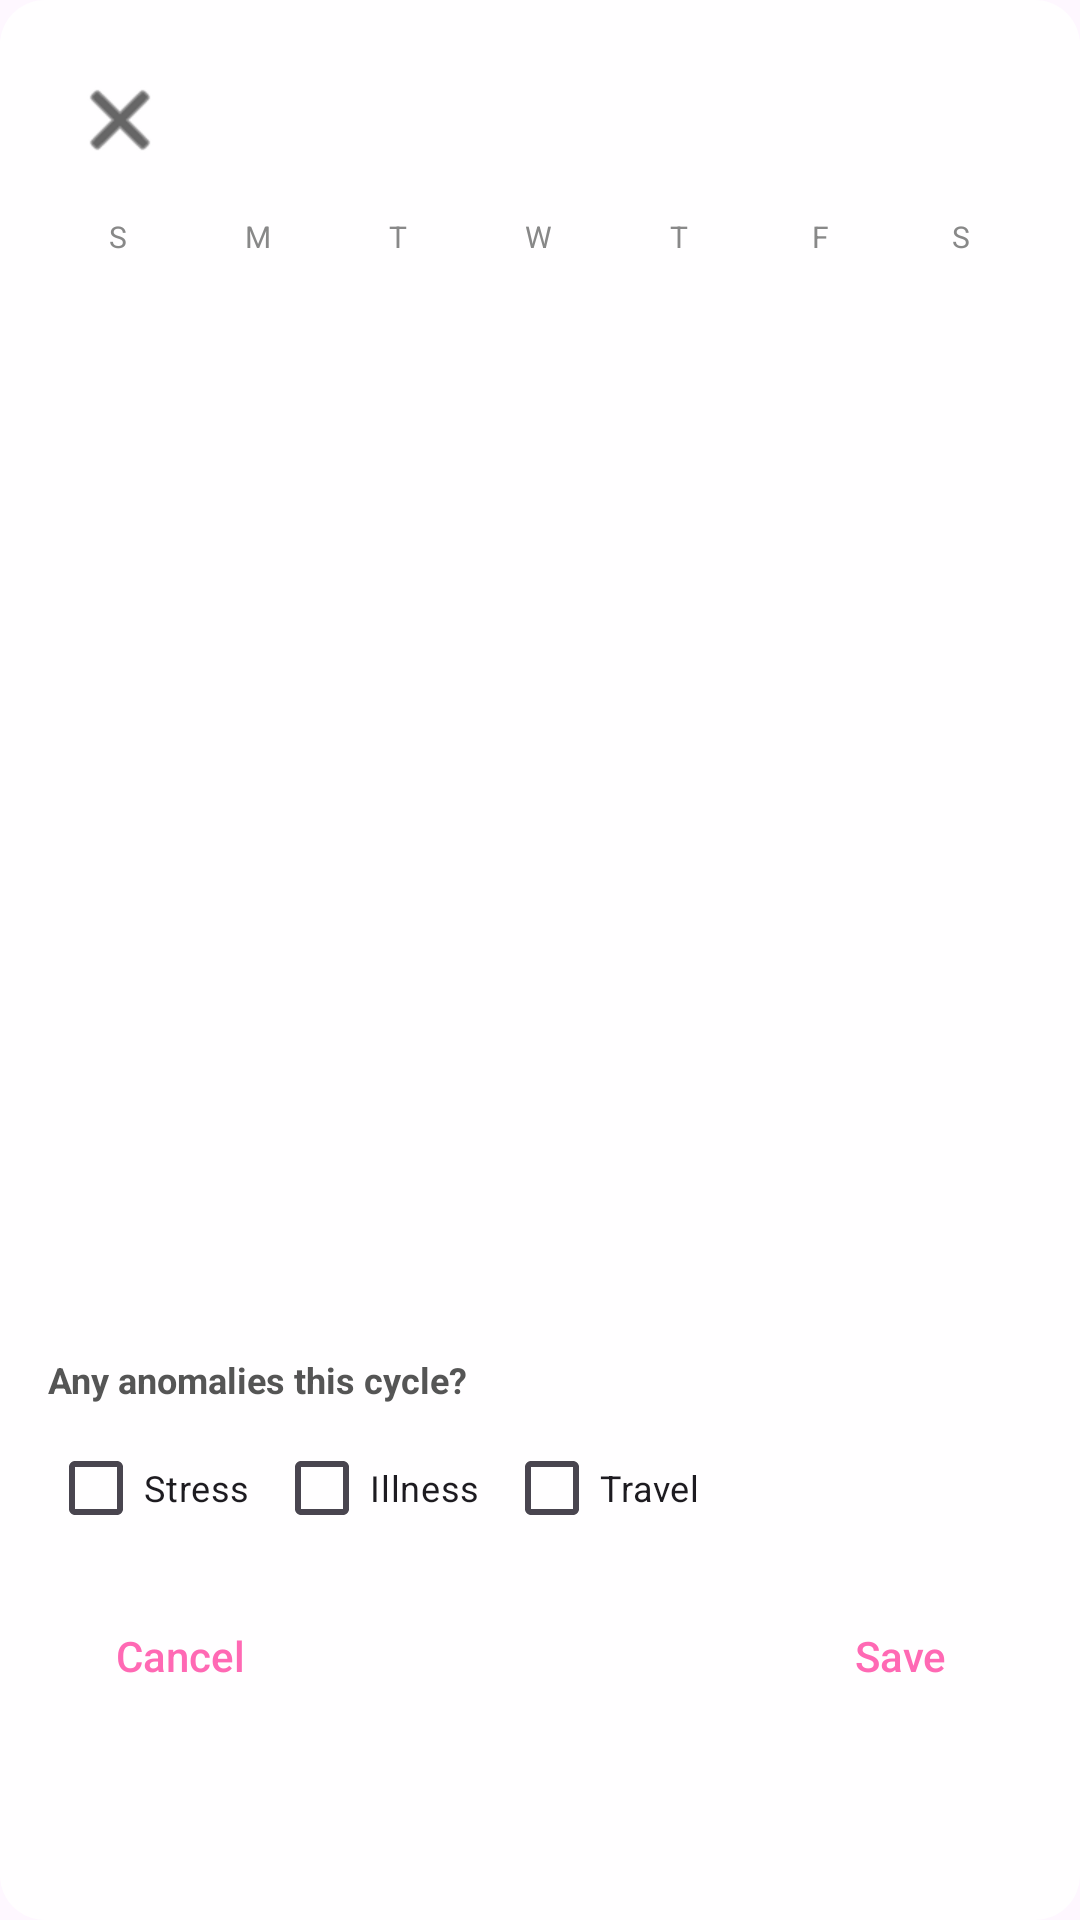

Icons on this 1080 × 1920 Android screen, each with the point to tap as [x,y]:
Close: [120,120]
